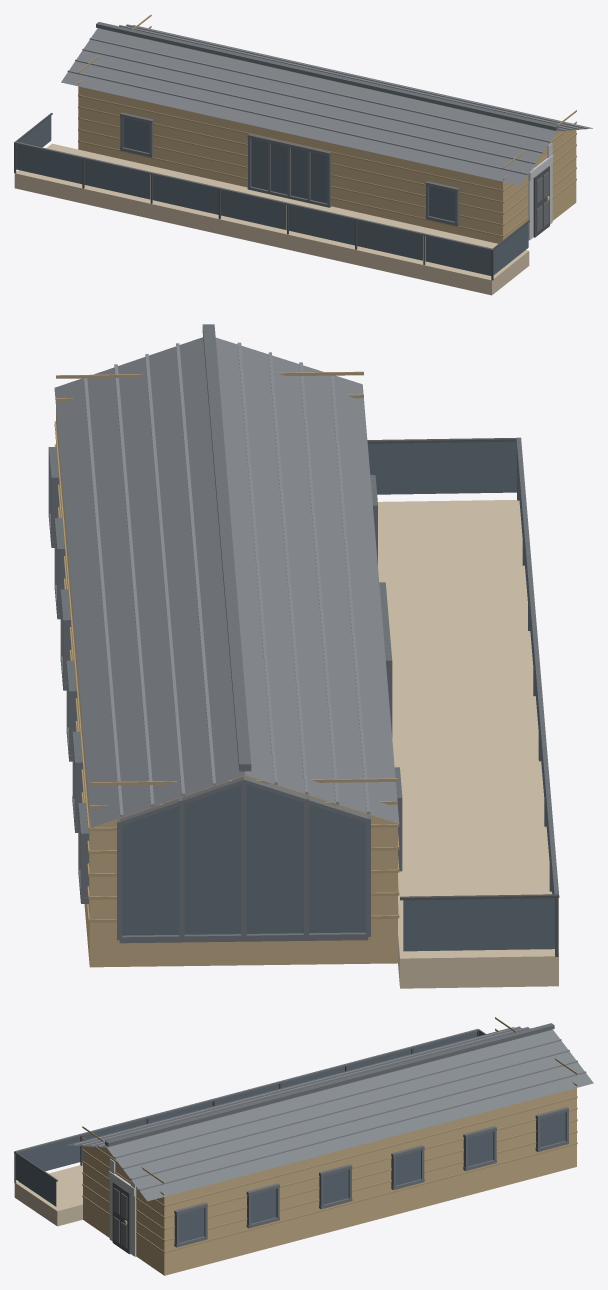
3 views of the same model, one above another, from view 1: azimuth 30°, elevation 25°; view 2: azimuth 150°, elevation 25°; view 3: azimuth 270°, elevation 25° (orthographic). The views are drawn at different scales.
Parts seen in each view (by area): view 1: slate, door_wood, larch, slate_dk, slate_lt, door_wood_p, window_glass_002, window_glass_003, window_glass_007, window_glass_001, window_glass_005, window_glass_004 (+13 smaller); view 2: slate, larch, window_glass_016, slate_dk, door_wood, slate_lt, window_glass_008, window_glass_009, door_wood_p, pipe; view 3: slate, door_wood, slate_dk, slate_lt, door_wood_p, larch, window_glass_007, window_glass_009, stone_band, window_glass_019, window_glass_022, window_glass_018 (+12 smaller).
Part boxes in pixels (left/top/right/bottom): slate: left=61, top=25, right=592, bottom=185; door_wood: left=78, top=86, right=576, bottom=243; larch: left=14, top=143, right=529, bottom=295; slate_dk: left=15, top=22, right=558, bottom=250; slate_lt: left=67, top=24, right=586, bottom=174; door_wood_p: left=78, top=14, right=576, bottom=237; window_glass_002: left=84, top=159, right=150, bottom=199; window_glass_003: left=152, top=175, right=218, bottom=214; window_glass_007: left=425, top=236, right=491, bottom=275; window_glass_001: left=16, top=144, right=82, bottom=183; window_glass_005: left=289, top=205, right=354, bottom=245; window_glass_004: left=221, top=190, right=286, bottom=229; slate: left=54, top=337, right=399, bottom=827; larch: left=378, top=500, right=558, bottom=988; window_glass_016: left=122, top=785, right=365, bottom=935; slate_dk: left=48, top=324, right=558, bottom=943; door_wood: left=56, top=408, right=397, bottom=967; slate_lt: left=83, top=342, right=370, bottom=817; window_glass_008: left=403, top=898, right=554, bottom=951; window_glass_009: left=367, top=441, right=516, bottom=494; door_wood_p: left=54, top=371, right=399, bottom=922; pipe: left=367, top=437, right=559, bottom=956; slate: left=66, top=1027, right=593, bottom=1201; door_wood: left=83, top=1088, right=576, bottom=1275; slate_dk: left=14, top=1023, right=568, bottom=1247; slate_lt: left=73, top=1026, right=586, bottom=1190; door_wood_p: left=82, top=1017, right=577, bottom=1253; larch: left=14, top=1164, right=82, bottom=1226; window_glass_007: left=18, top=1136, right=80, bottom=1171; window_glass_009: left=15, top=1154, right=56, bottom=1206; stone_band: left=108, top=1158, right=136, bottom=1256; window_glass_019: left=323, top=1169, right=348, bottom=1204; window_glass_022: left=540, top=1112, right=565, bottom=1147; window_glass_018: left=251, top=1189, right=276, bottom=1223.
Bounding box in the file's own units: 14.49 × 3.63 × 17.3.
